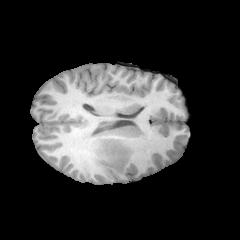glioma: (96, 131, 134, 173)
